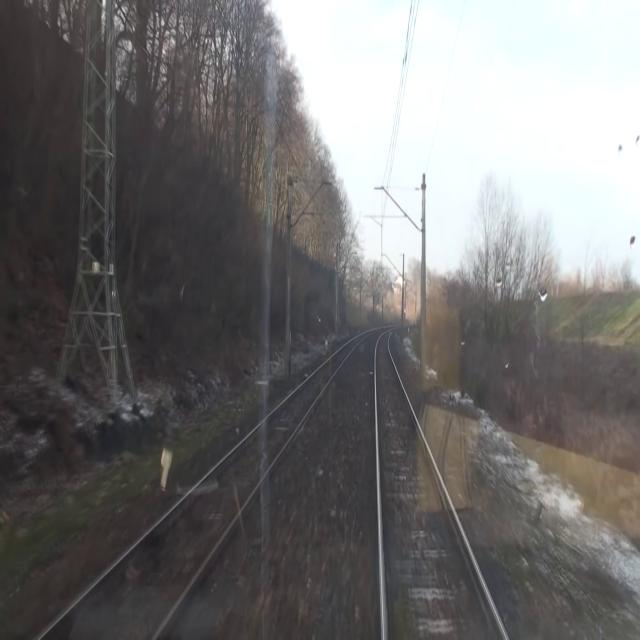rail-track: (42, 338, 359, 639), (376, 333, 504, 639)
